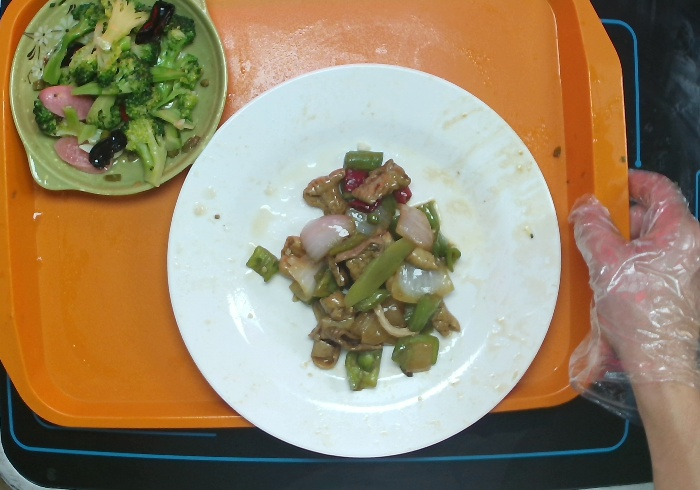NLDX-Da_Yuan_Pan: (163, 60, 562, 459)
NLDX-Lv_Hua_Shuang_Er_Die: (8, 1, 230, 198)
